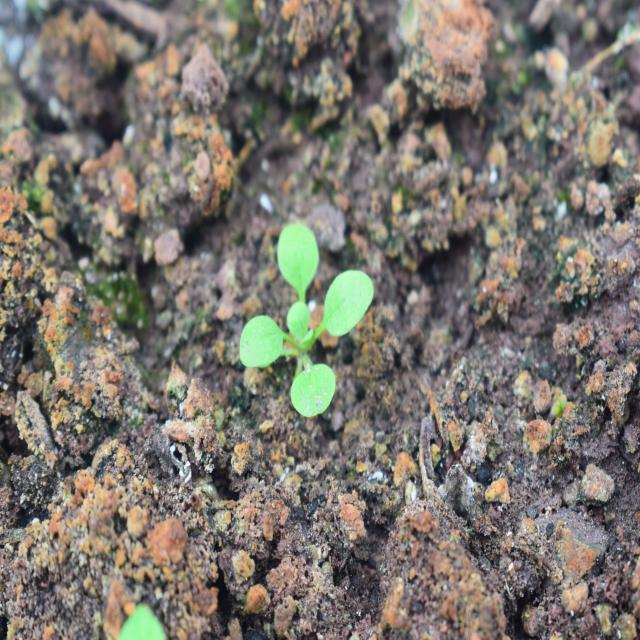Shepherd_Purse: (225, 207, 389, 431)
